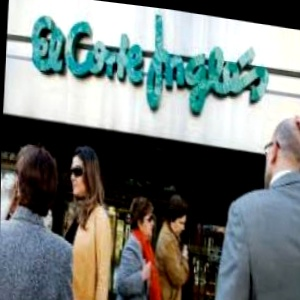corte_ingles: (268, 22, 282, 27)
